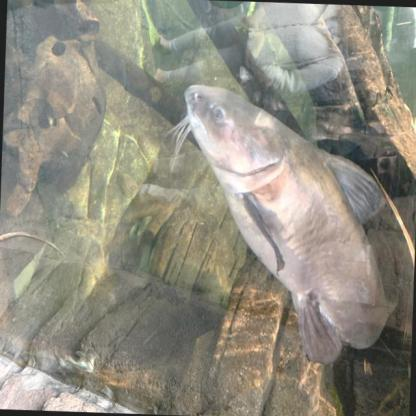fish: (175, 84, 406, 372)
